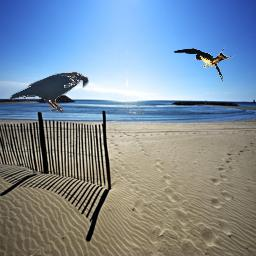Crow: (8, 71, 89, 113)
Swallow: (172, 45, 242, 82)
